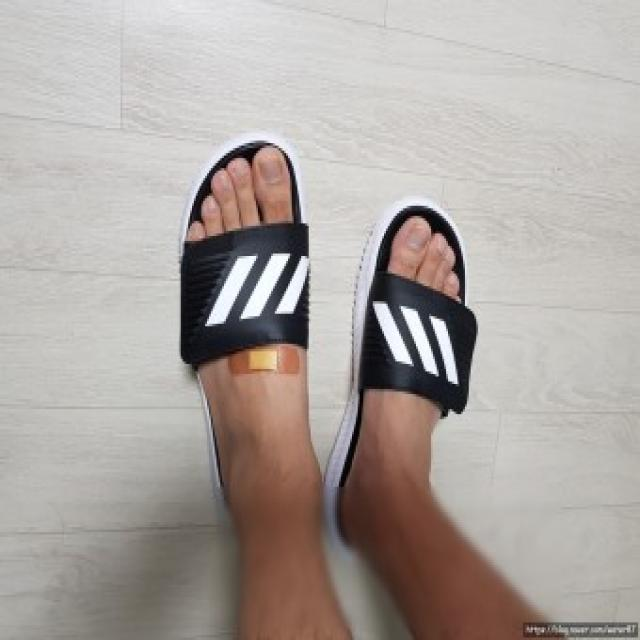no-boots: (166, 115, 314, 565), (348, 180, 489, 584)
